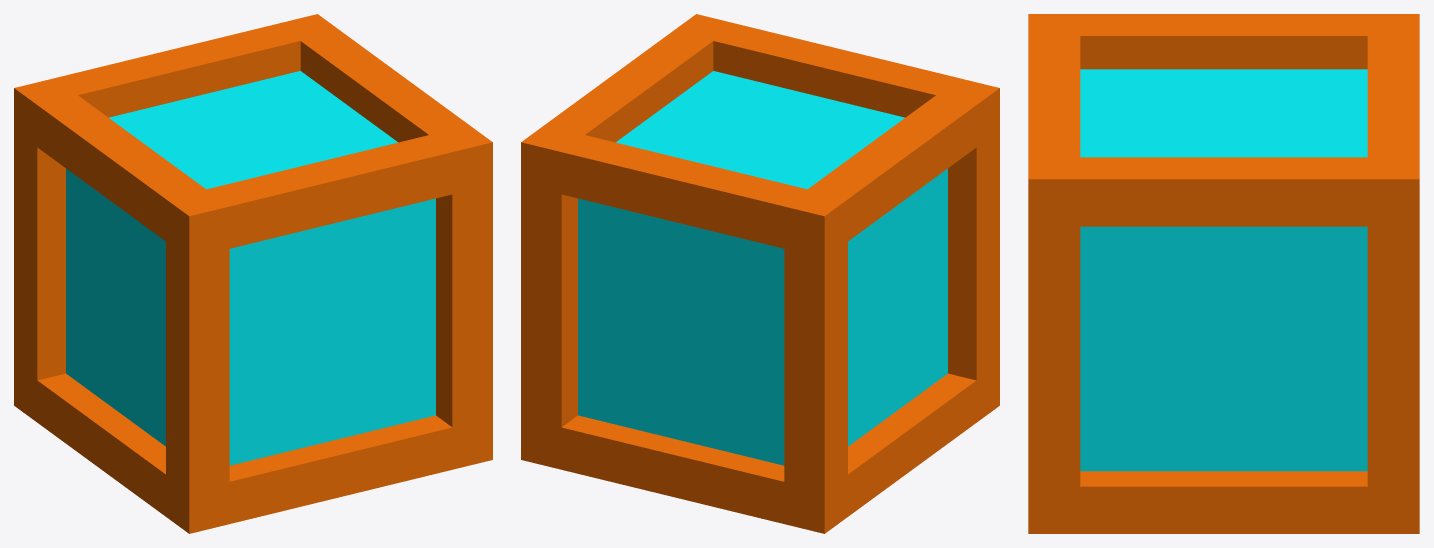
File: crate_1.fbx
3 views of the same model, side by side, from view 1: azimuth 30°, elevation 25°; view 2: azimuth 150°, elevation 25°; view 3: azimuth 270°, elevation 25° (orthographic). The views are drawn at different scales.
Parts seen in each view (by area): view 1: Crate_1; view 2: Crate_1; view 3: Crate_1.
Boxes of the visible parts, bbox=[...] form: Crate_1: bbox=[14, 14, 492, 533]; Crate_1: bbox=[521, 14, 999, 533]; Crate_1: bbox=[1028, 14, 1419, 533].
Bounding box in the file's own units: 85.99 × 85.99 × 85.99.
